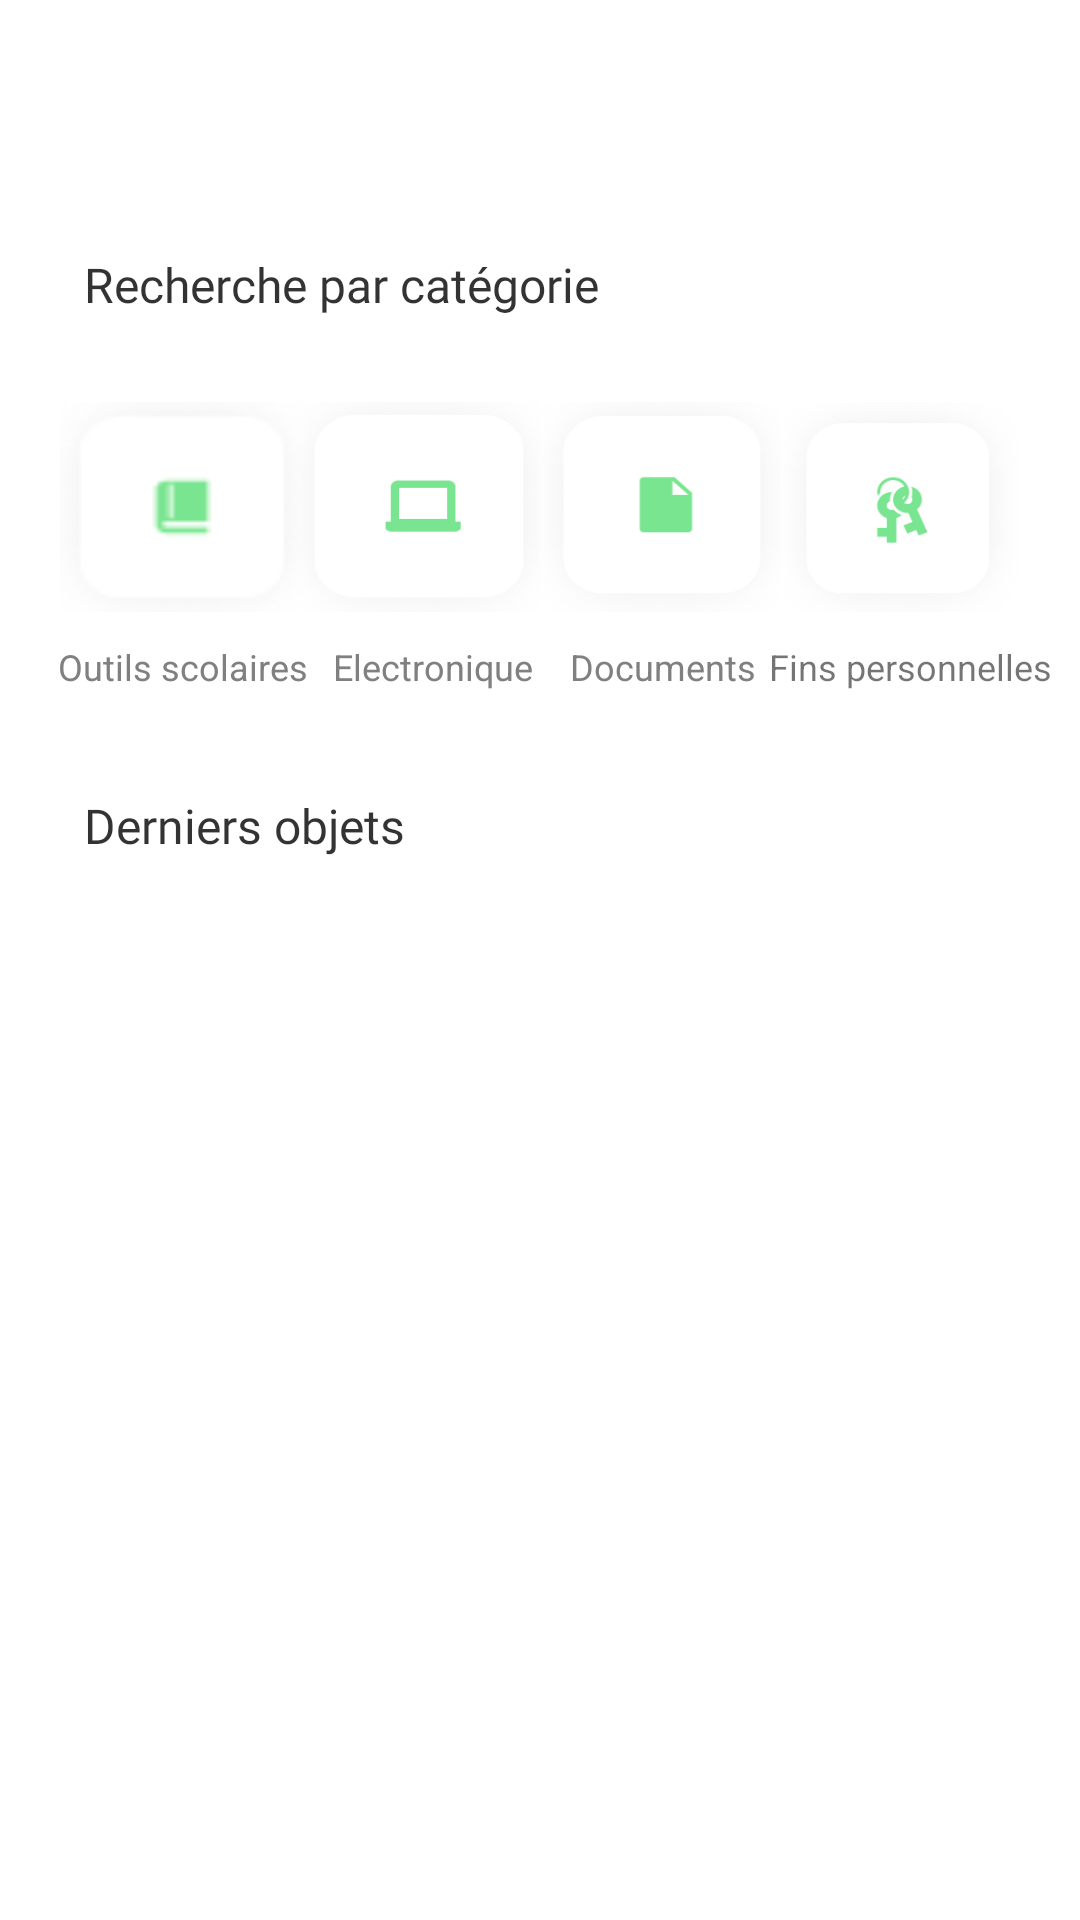

Locate icon controls on the screen. Image size 1080 x 1920, boxes as BBox(x1, y1, x2, y2).
doc: BBox(639, 477, 693, 533)
